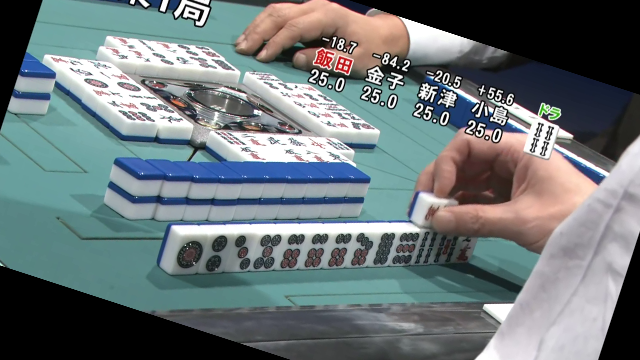Tehai: (165, 202, 478, 282)
